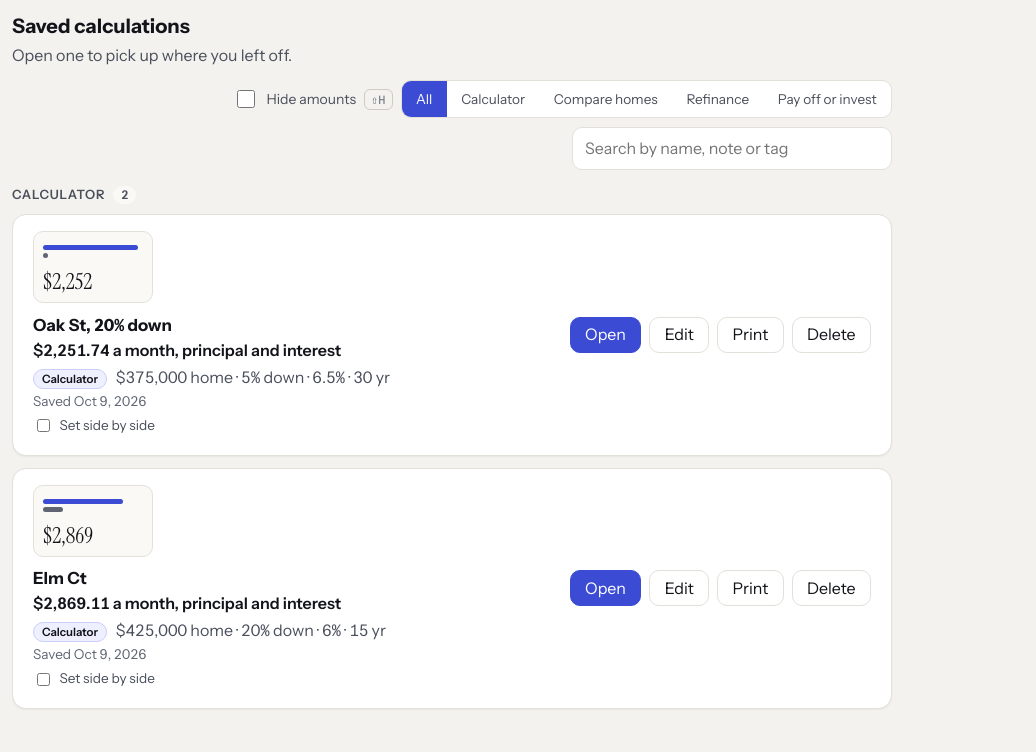
HistoryPageComponent › the list › two side by side › goes away when one of the two is put back
The width and height of the screenshot is (1036, 752).
Click the checkbox labelled "Set side by side" below "$375,000 home · 5% down · 6.5% · 30 yr" at (44, 426), box [37,419,50,432]
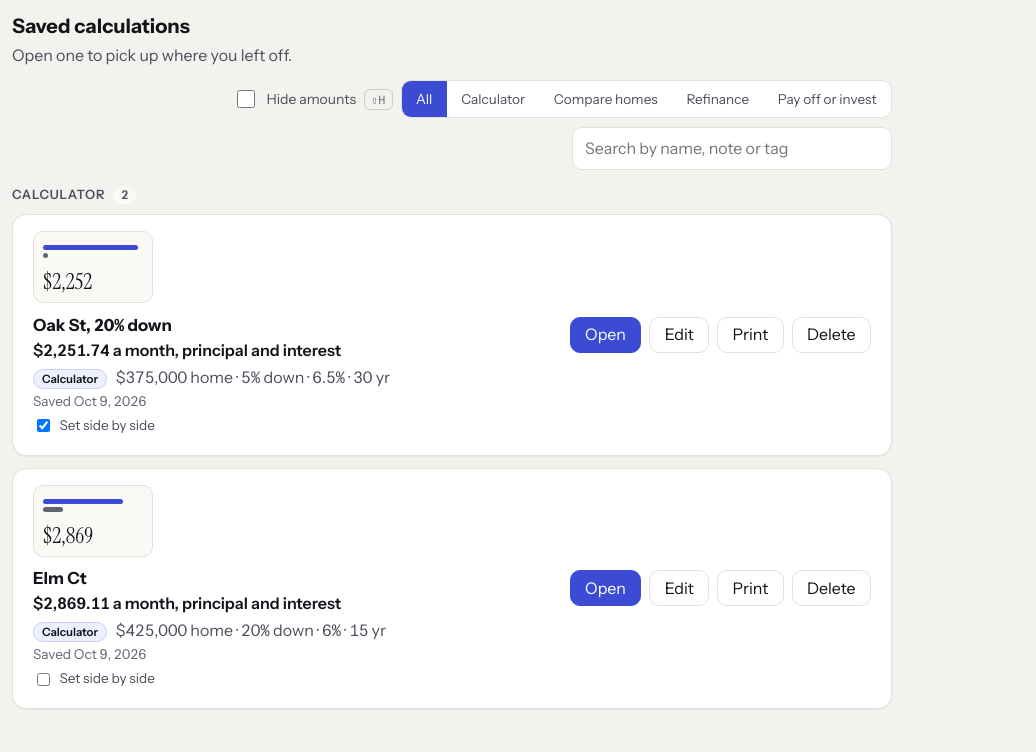
Click the checkbox with test id "pick-5" at (44, 679), box [37,673,50,686]
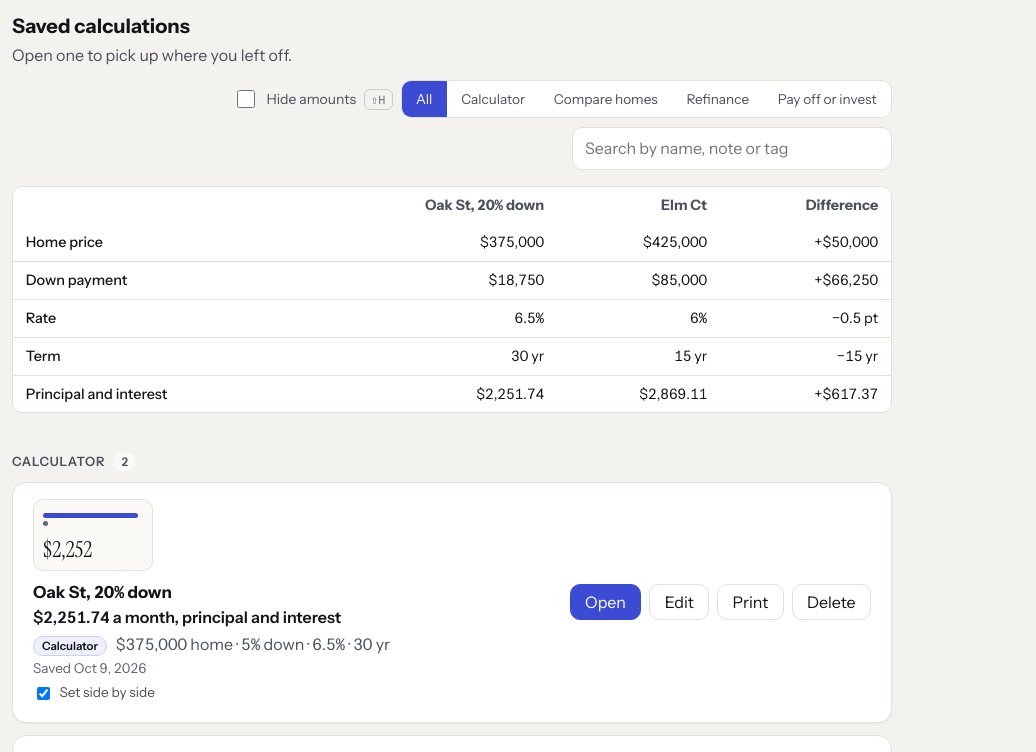
Click the checkbox labelled "Set side by side" at (44, 693), box [37,687,50,700]
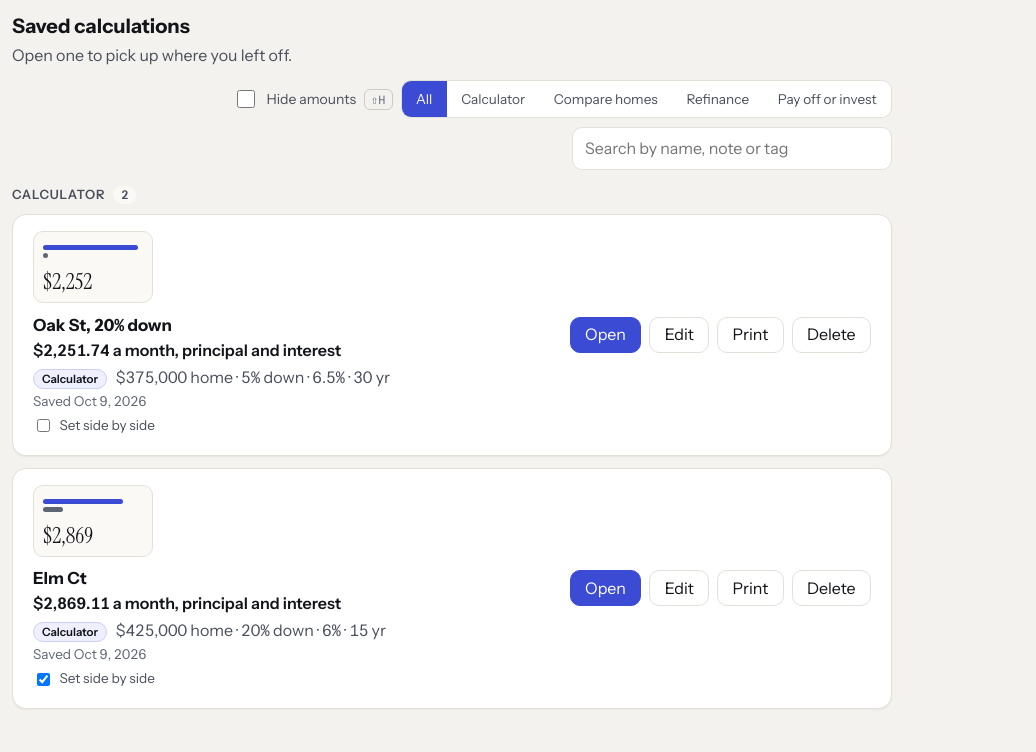
Expected: the element with test id "saved-pair" is gone
